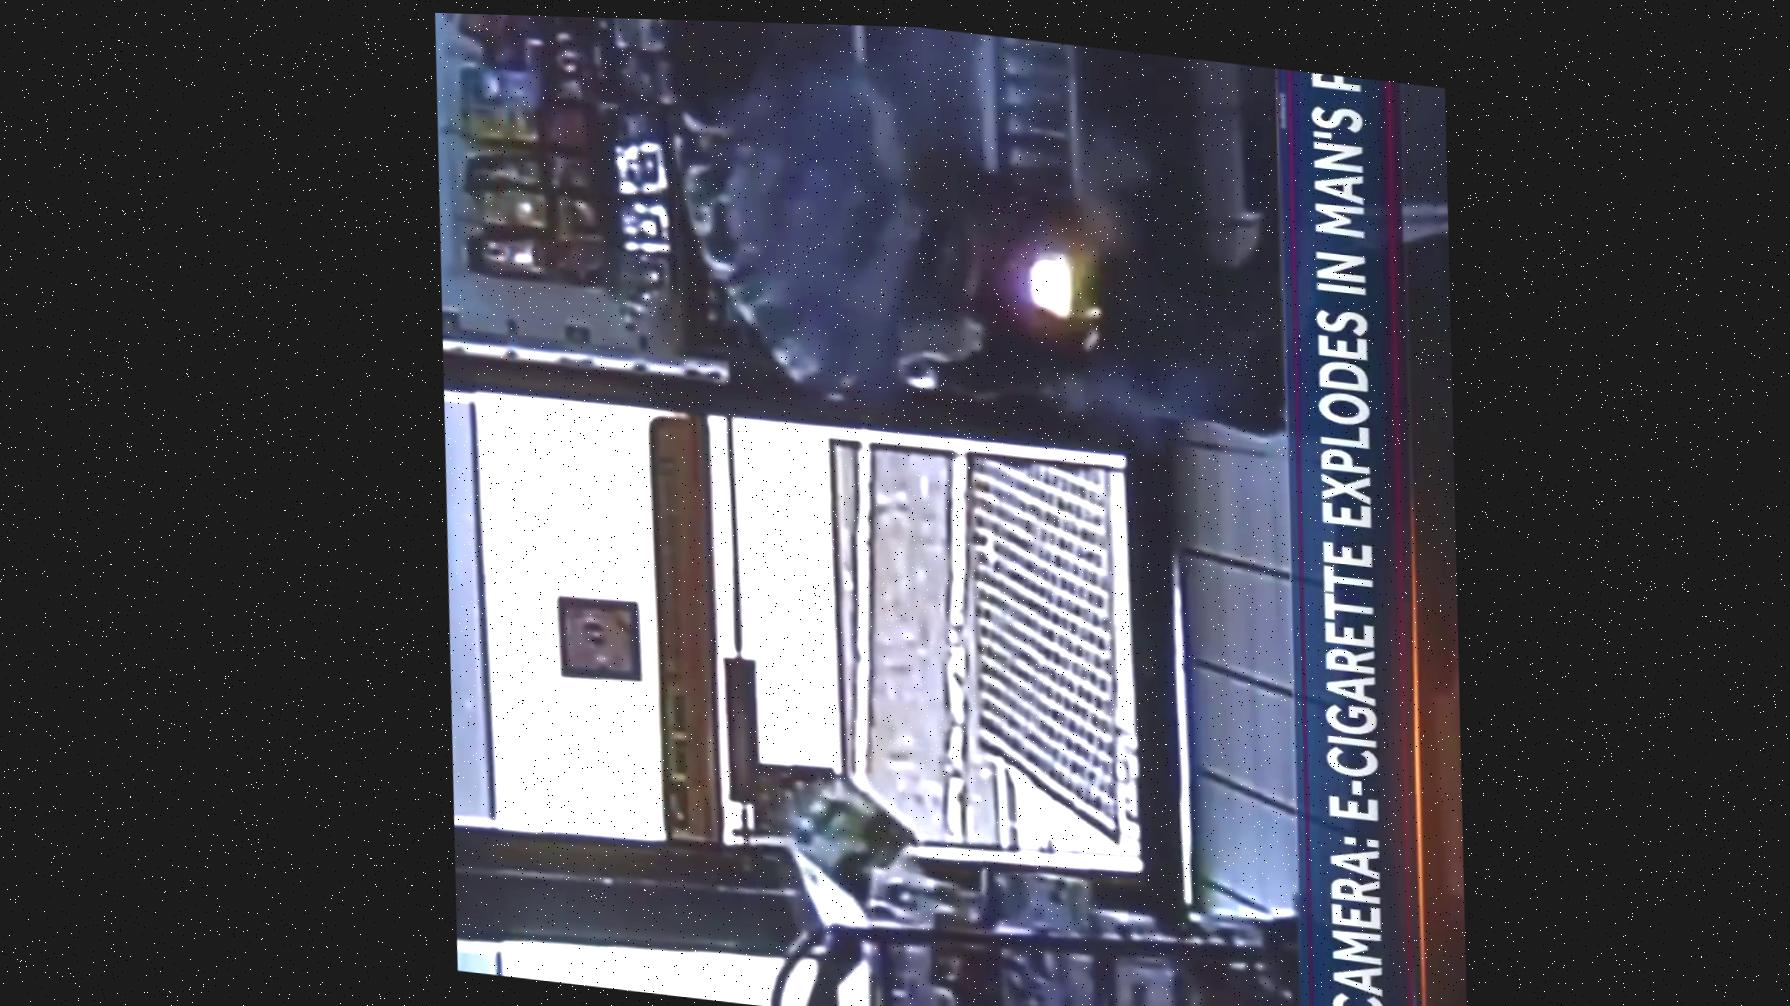fire: (972, 197, 1148, 398)
